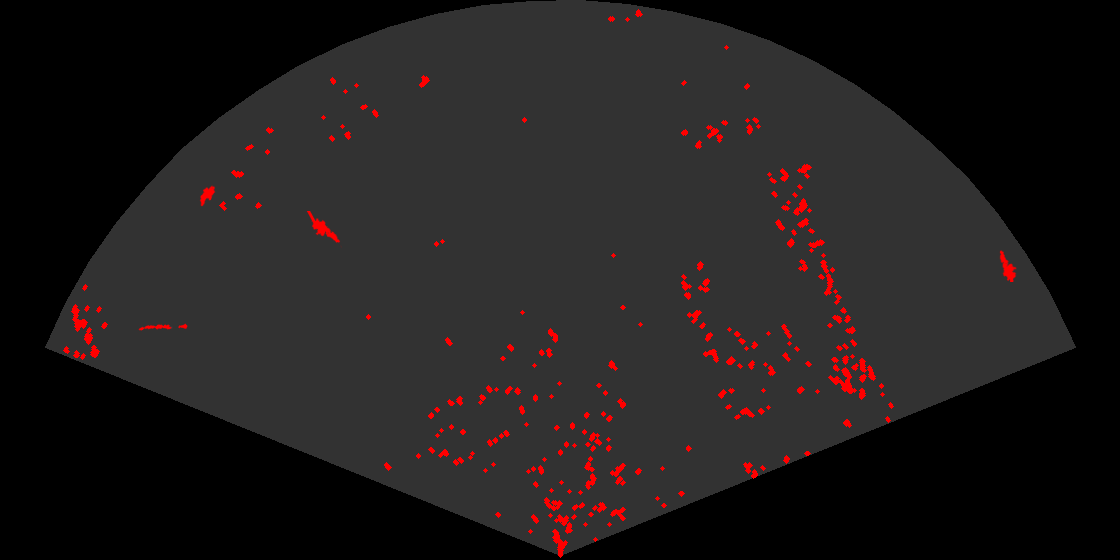AUV: (198, 184, 217, 208)
chain: (138, 322, 188, 332)
frogman: (306, 211, 342, 249), (998, 250, 1018, 282)
